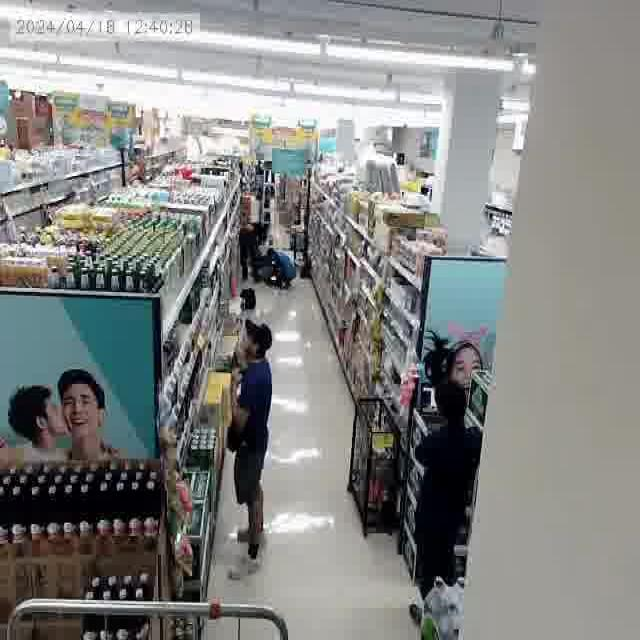shoplifting: (218, 310, 283, 592)
